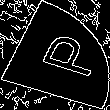P_W: (16, 28, 94, 82)
